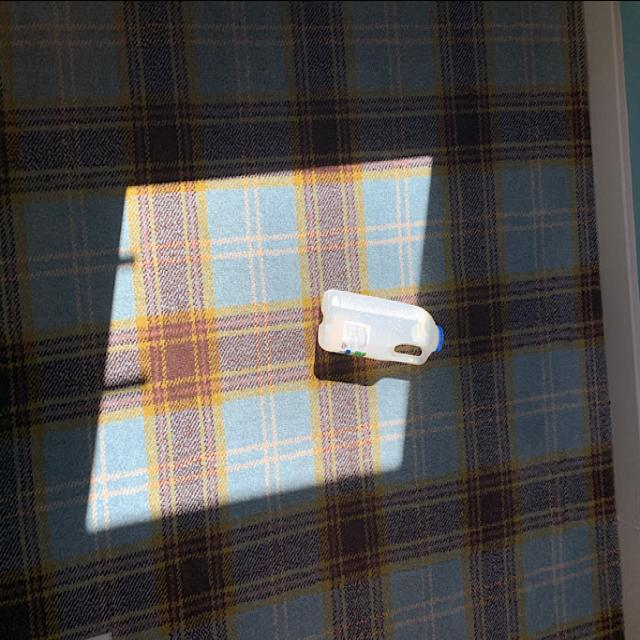HDPEM: (317, 282, 449, 372)
